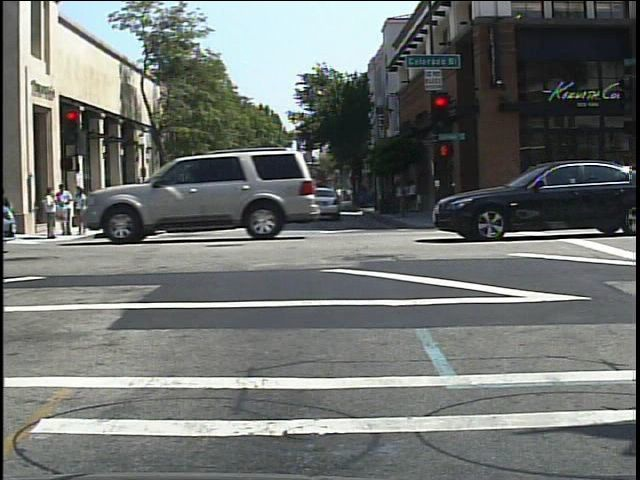person: (178, 181, 195, 217), (85, 186, 99, 229), (132, 185, 147, 215)
